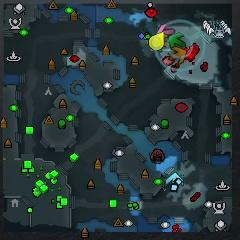p4: (148, 32, 165, 51)
x1: (157, 23, 176, 36)
x3: (166, 172, 184, 191)
x4: (168, 32, 187, 48)
x5: (169, 47, 186, 64)
